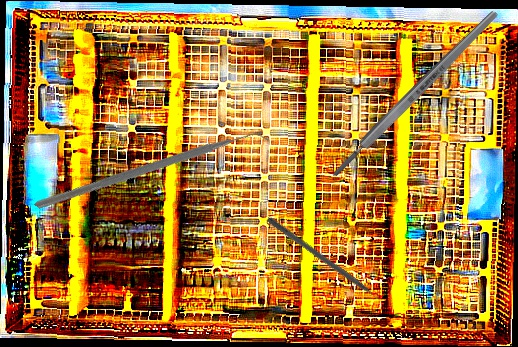Chopper: (34, 51, 274, 298)
Pusher: (264, 215, 392, 311)
Scalpel Handle: (327, 7, 502, 181)
